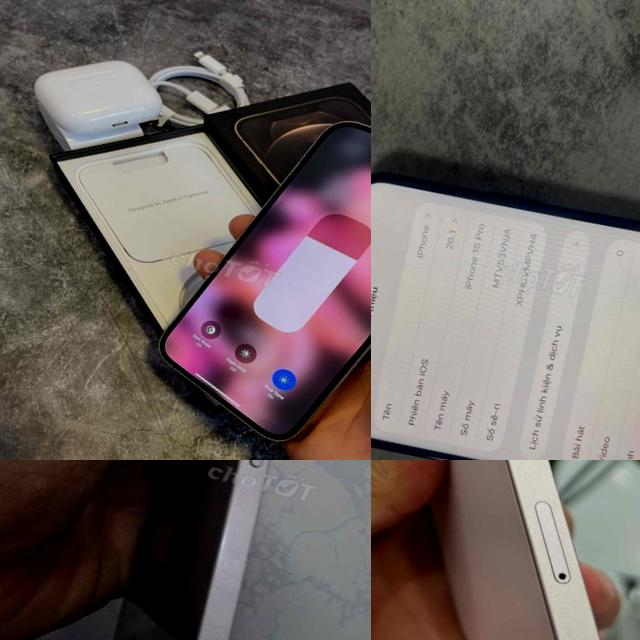gen_12_13: (134, 78, 371, 460), (76, 460, 362, 640), (371, 460, 640, 640)
gen_15: (371, 134, 640, 460)
